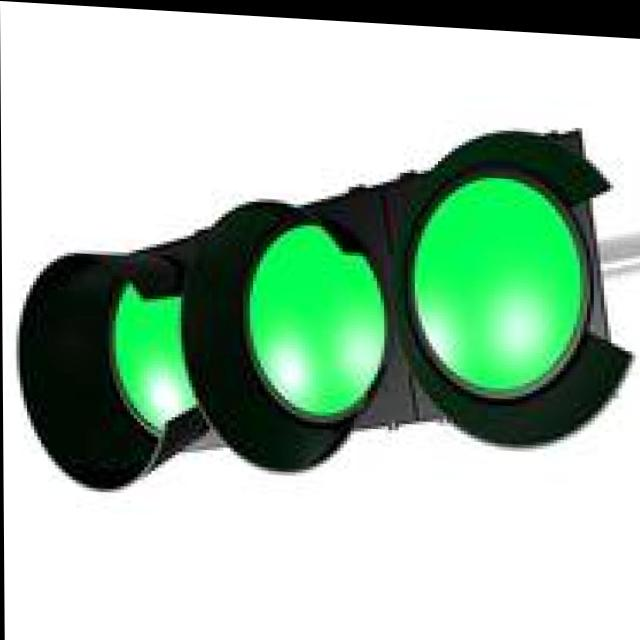green_light: (357, 89, 616, 451), (171, 157, 427, 469), (10, 222, 232, 480)
